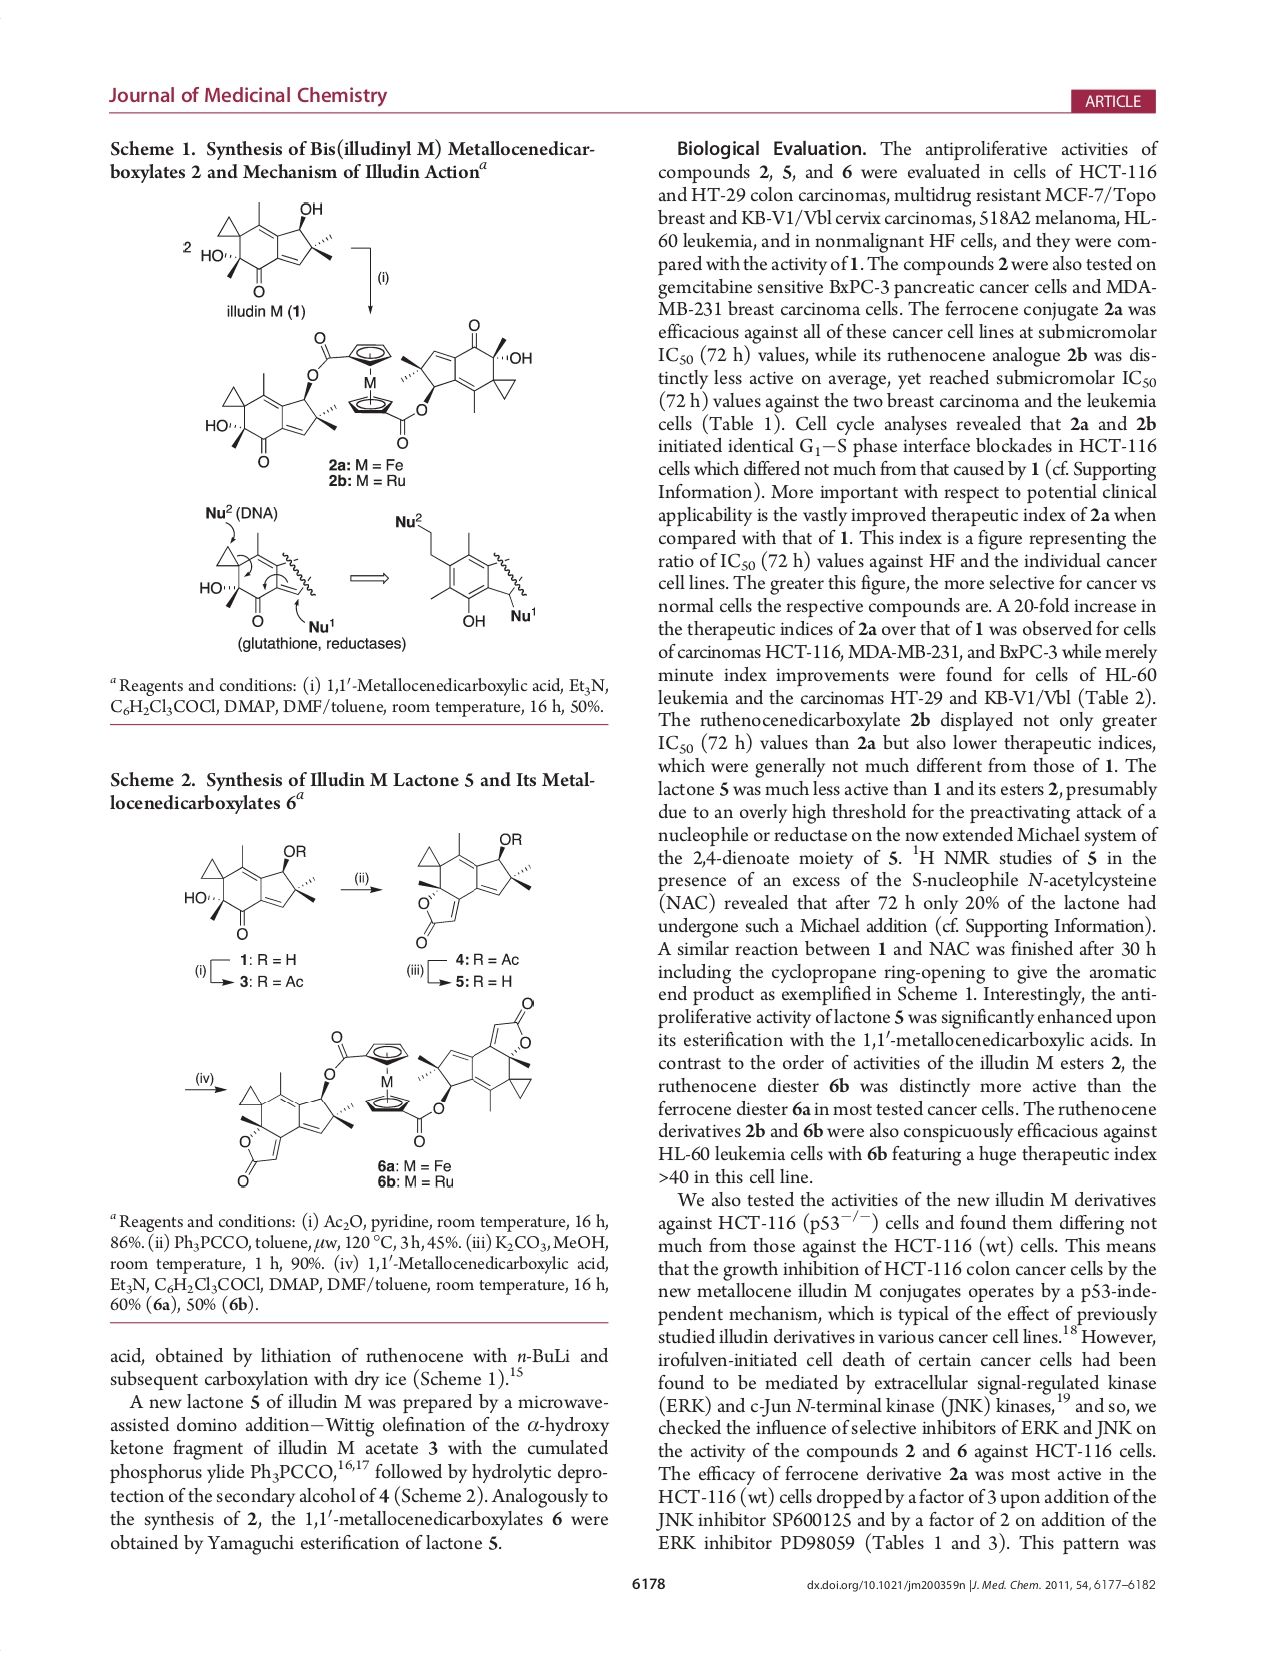exist_molecular: (237, 996, 540, 1190), (203, 318, 535, 469), (394, 509, 543, 630), (411, 829, 537, 950), (195, 197, 336, 302), (181, 840, 319, 946), (193, 531, 316, 630)
